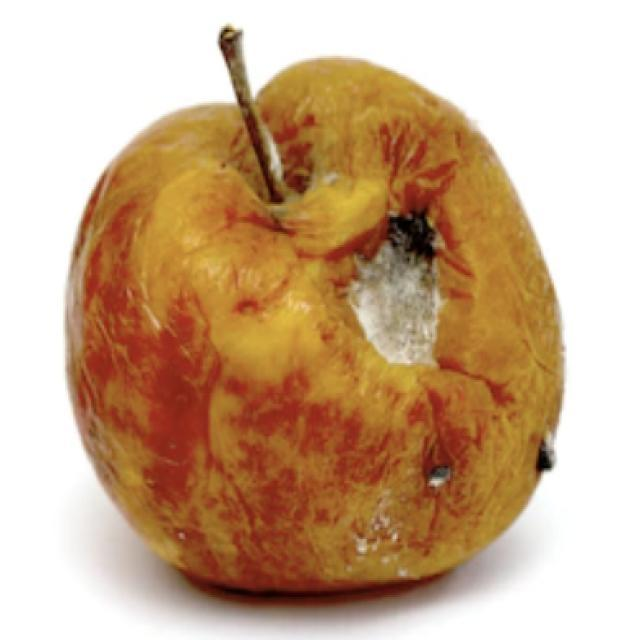Rotten: (75, 63, 582, 595)
